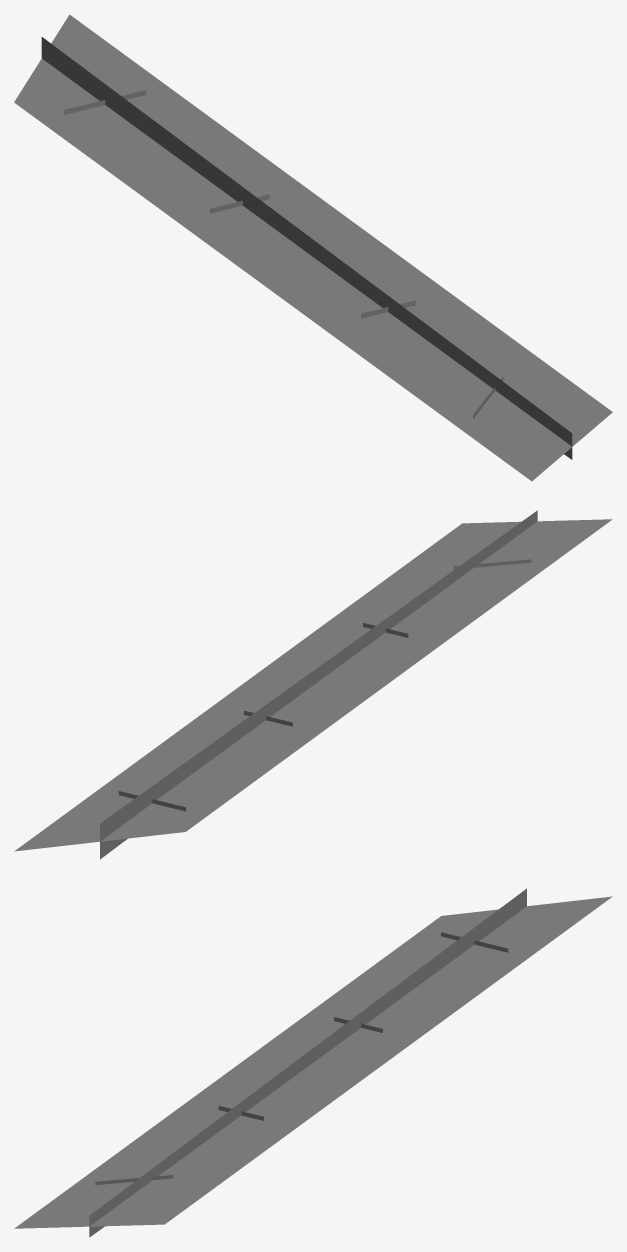
3 views of the same model, one above another, from view 1: azimuth 30°, elevation 25°; view 2: azimuth 150°, elevation 25°; view 3: azimuth 330°, elevation 25° (orthographic). The views are drawn at different scales.
Visible parts, largest first — view 1: WP_A_1165; view 2: WP_A_1165; view 3: WP_A_1165.
Part boxes in pixels (bbox=[...]): WP_A_1165: bbox=[14, 14, 612, 481]; WP_A_1165: bbox=[14, 510, 612, 859]; WP_A_1165: bbox=[14, 888, 612, 1237].
Size of the model in its own units: 6.89 by 2.18 by 53.77.
1 material, 1 textured.
